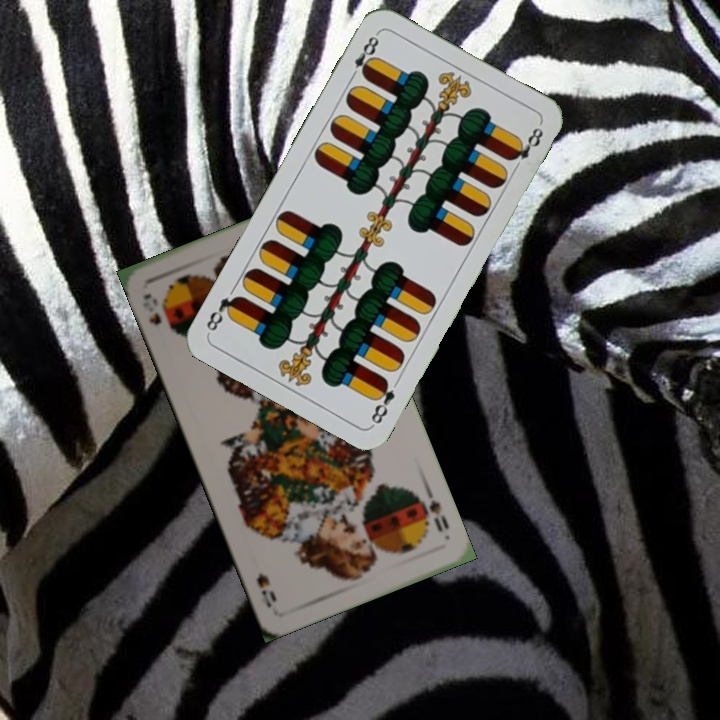E8: (345, 29, 382, 83), (367, 375, 398, 428)
SO: (414, 490, 452, 535), (138, 289, 164, 328)
